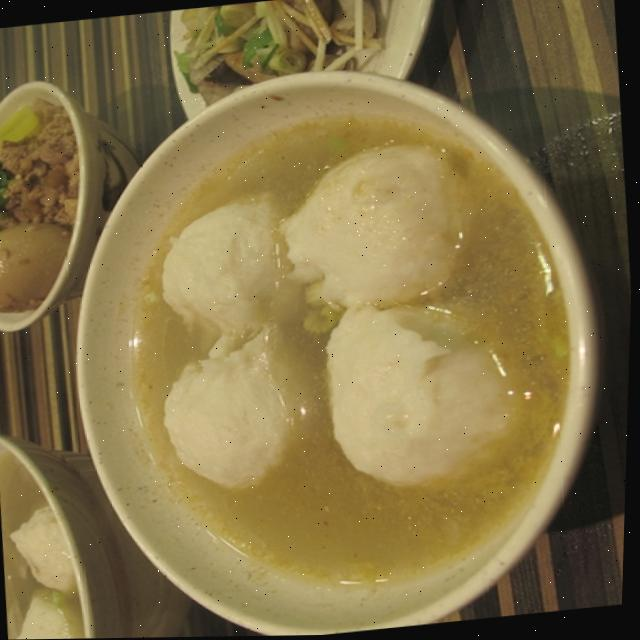熟制海鲜: (55, 53, 617, 639)
